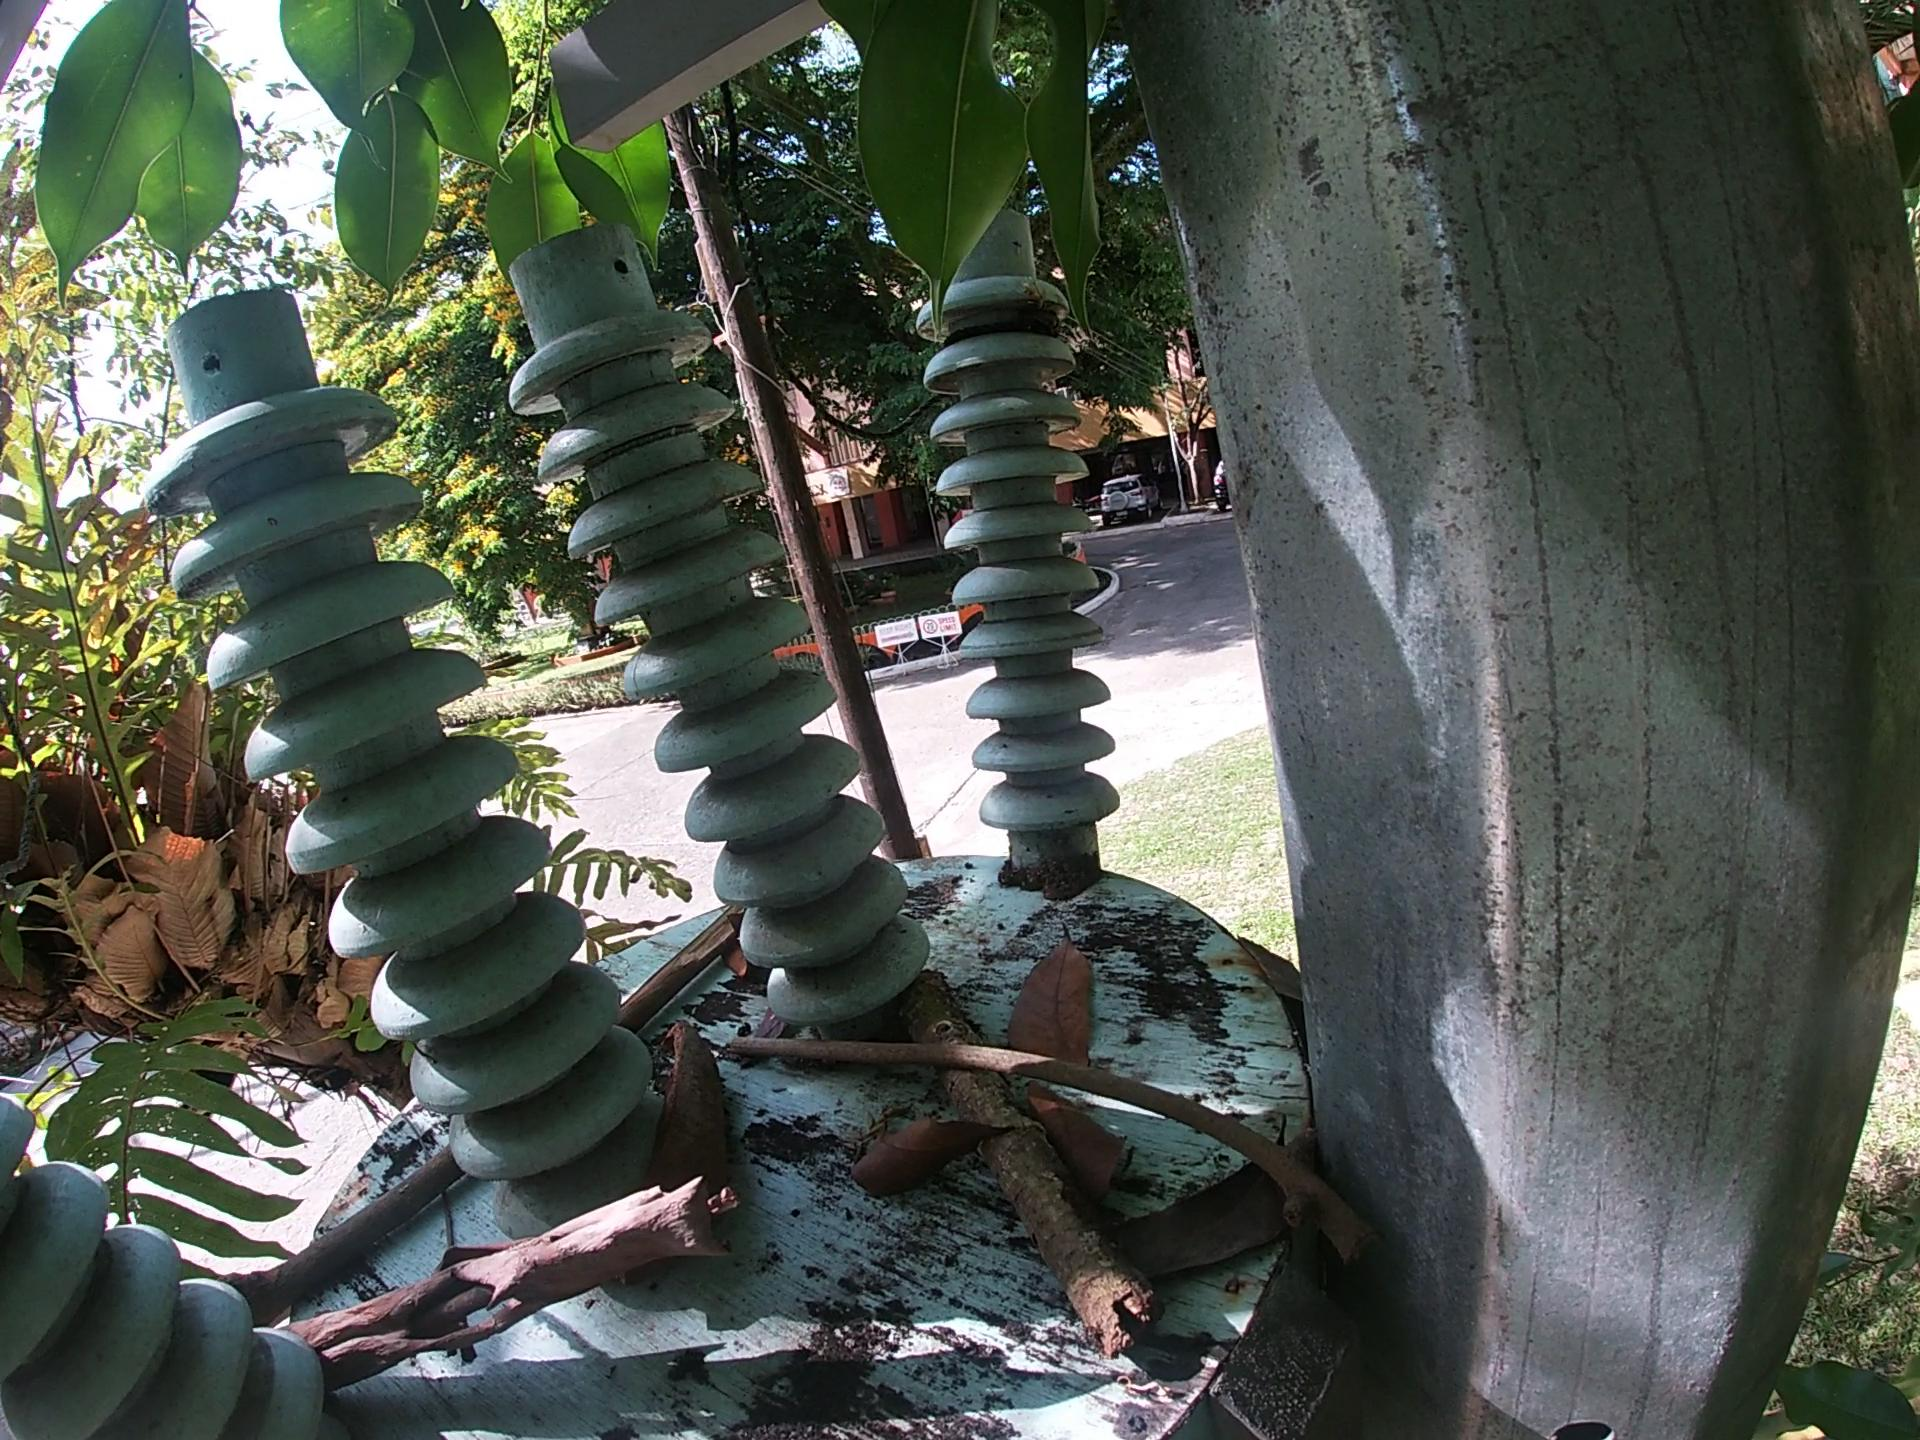leaf: (1108, 1142, 1323, 1290), (1008, 911, 1108, 1085), (1016, 1086, 1129, 1196), (839, 1116, 998, 1192)
mahogany fruit: (652, 994, 718, 1184), (727, 938, 762, 985)
tree branch: (726, 1032, 1362, 1221), (274, 1187, 750, 1407), (912, 980, 1173, 1370), (184, 1163, 473, 1313), (627, 911, 745, 1023), (423, 1186, 473, 1274)
